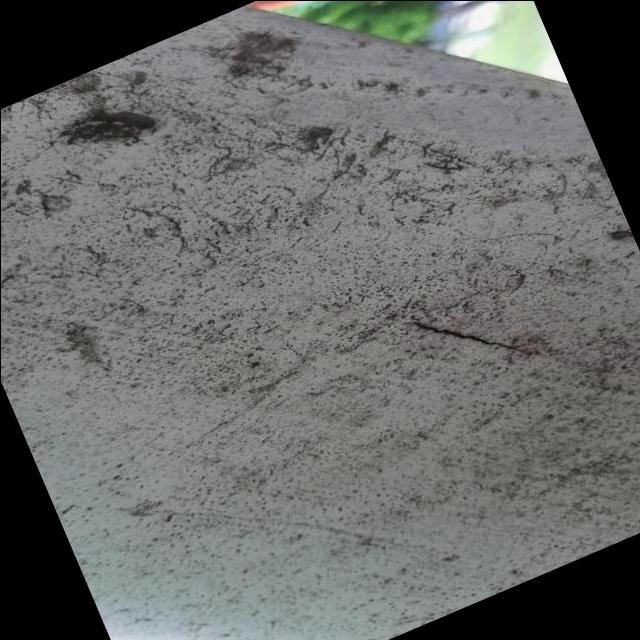defect: (393, 319, 529, 361)
